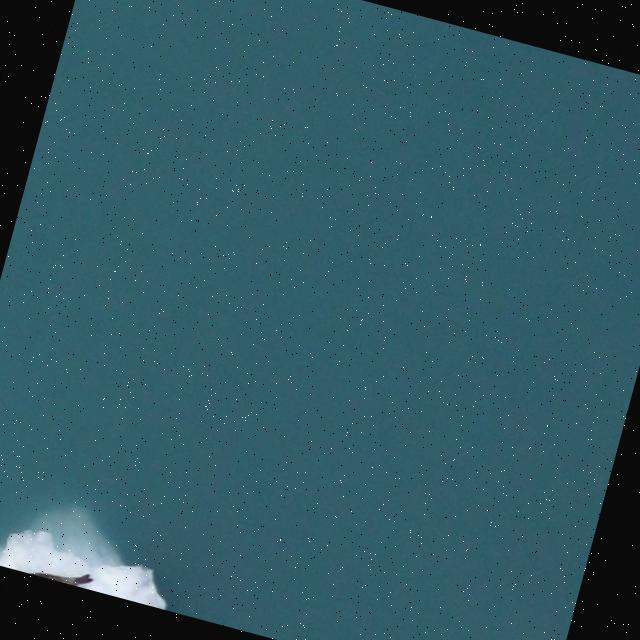seal: (33, 574, 92, 586)
